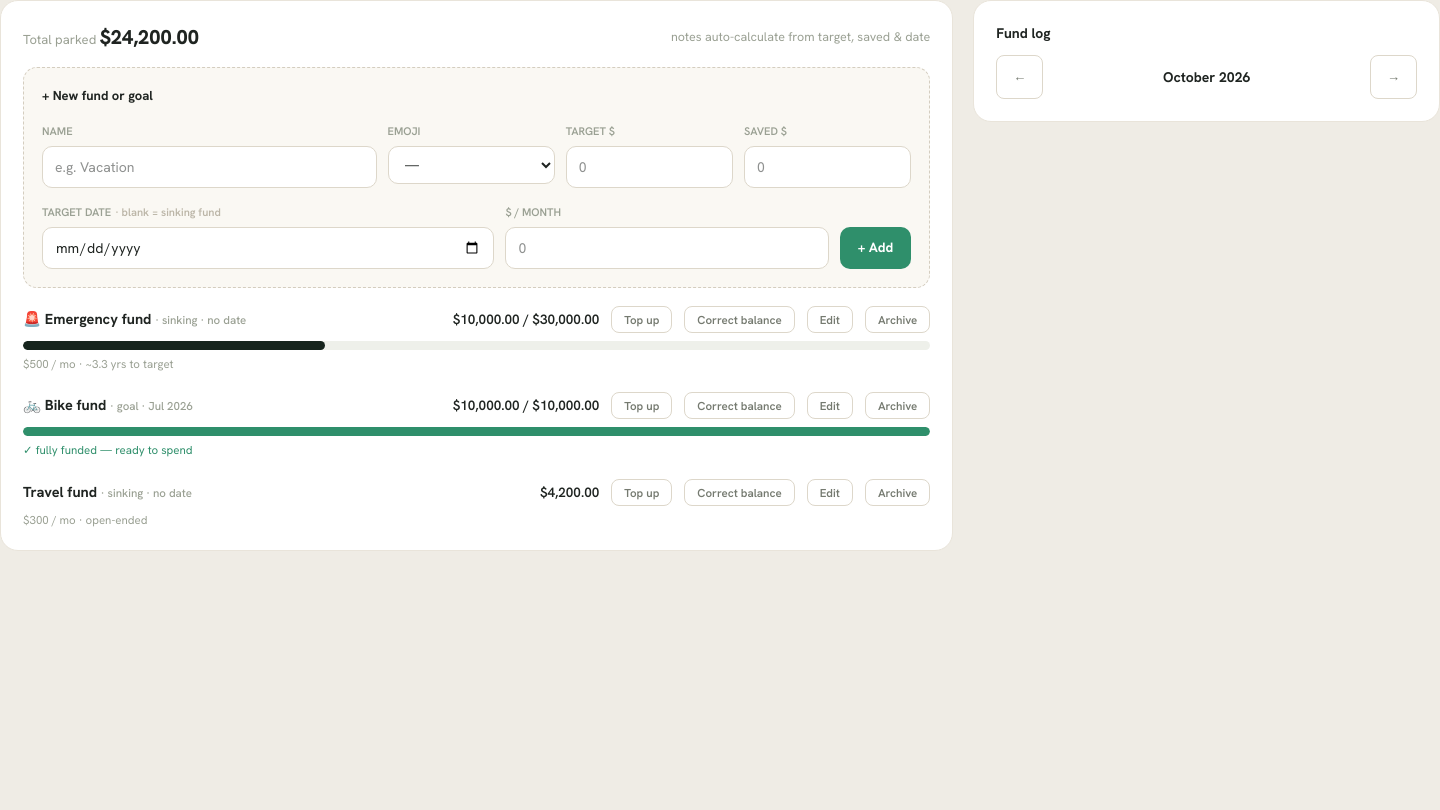
Test: archiving a fund › posts the archive and refetches the list
Click the button "Archive" in the row of "$10,000.00 / $30,000.00". click: (898, 319)
box: [865, 306, 930, 333]
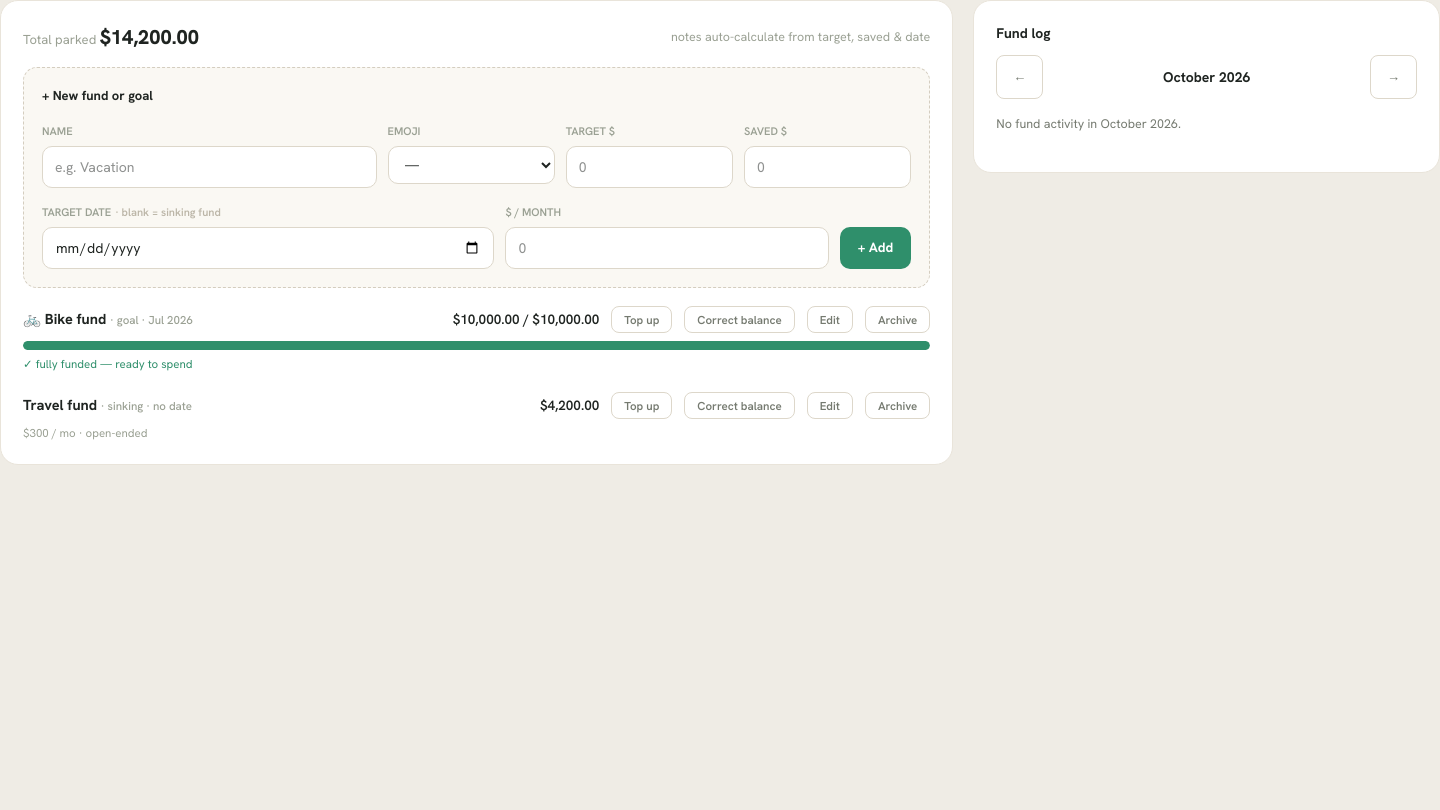
Expected: the number of elements with test id "fund-row" is 2, [15, 298, 938, 380]; [15, 384, 938, 450]
Expected: the button "🚨 Emergency fund" is gone
Expected: the text "$14,200.00" is shown, [100, 24, 199, 50]
